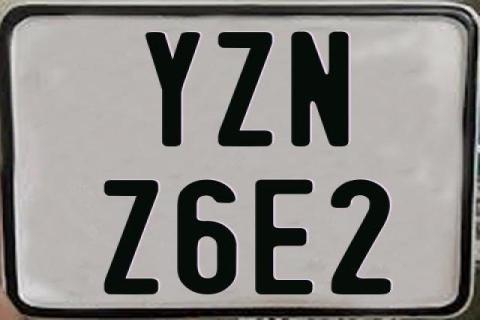0: (329, 180, 395, 300), (174, 179, 236, 297)
E: (253, 180, 311, 300)
N: (290, 31, 352, 148)
Y: (142, 31, 202, 149)
Z: (215, 32, 272, 150), (102, 178, 159, 292)
